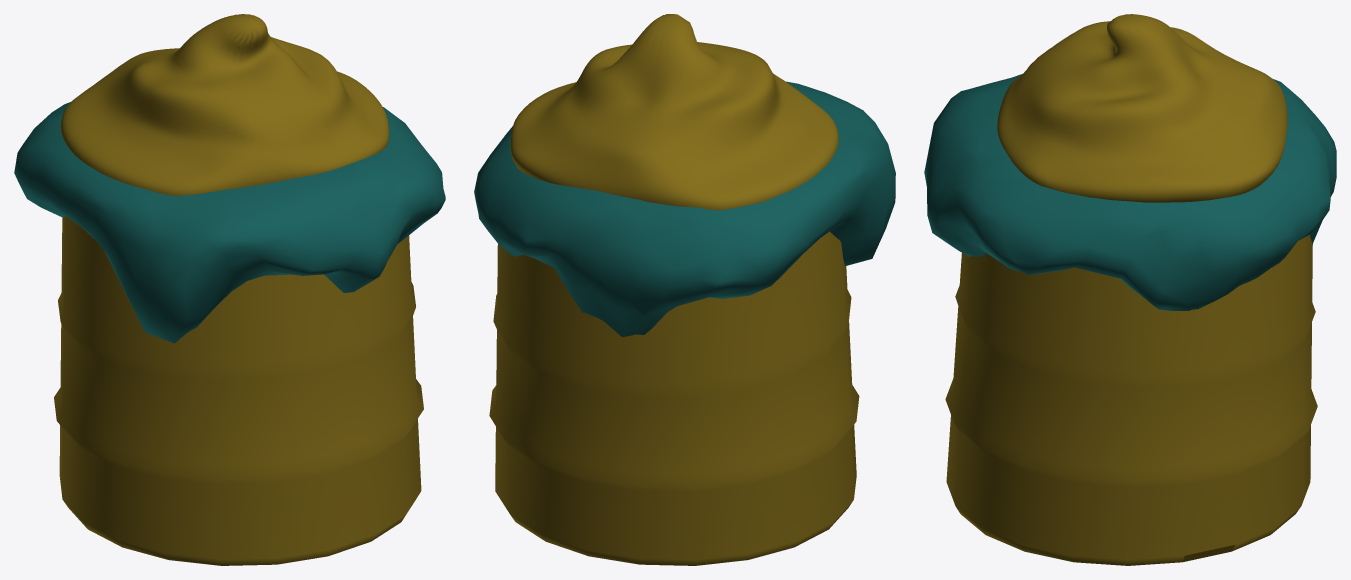
Rendered from Cake03.obj.
3 views of the same model, side by side, from view 1: azimuth 30°, elevation 25°; view 2: azimuth 150°, elevation 25°; view 3: azimuth 270°, elevation 25° (orthographic).
Visible parts, largest first — view 1: group11 Cake04:group10pCylinder20, group11 Cake04:group10polySurface15, Cake04:pSphere67group10 group11; view 2: group11 Cake04:group10pCylinder20, group11 Cake04:group10polySurface15, Cake04:pSphere67group10 group11; view 3: group11 Cake04:group10pCylinder20, group11 Cake04:group10polySurface15, Cake04:pSphere67group10 group11.
Part boxes in pixels (<box>): group11 Cake04:group10pCylinder20: <box>54,216,423,565</box>; group11 Cake04:group10polySurface15: <box>14,102,445,343</box>; Cake04:pSphere67group10 group11: <box>60,14,389,196</box>; group11 Cake04:group10pCylinder20: <box>489,231,859,565</box>; group11 Cake04:group10polySurface15: <box>474,81,895,337</box>; Cake04:pSphere67group10 group11: <box>510,14,838,210</box>; group11 Cake04:group10pCylinder20: <box>945,235,1317,565</box>; group11 Cake04:group10polySurface15: <box>924,74,1336,310</box>; Cake04:pSphere67group10 group11: <box>997,14,1287,202</box>.
Size of the model in its own units: 7.46 by 9.95 by 7.81.
